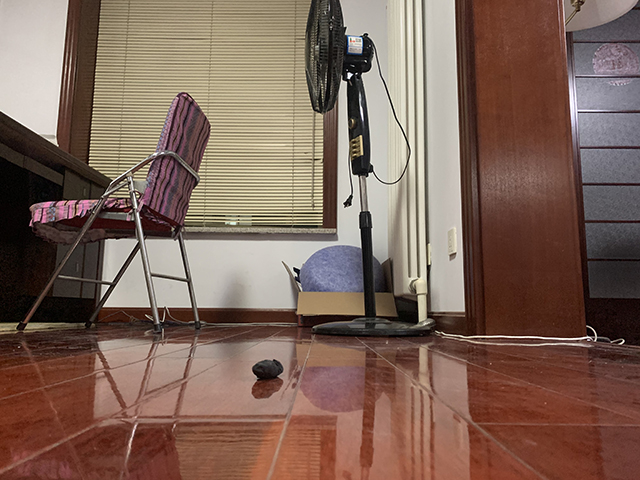carpet: (1, 322, 94, 348)
feces: (251, 357, 285, 381)
stool: (15, 90, 213, 332)
table: (1, 111, 115, 324)
wire: (187, 316, 623, 349)
